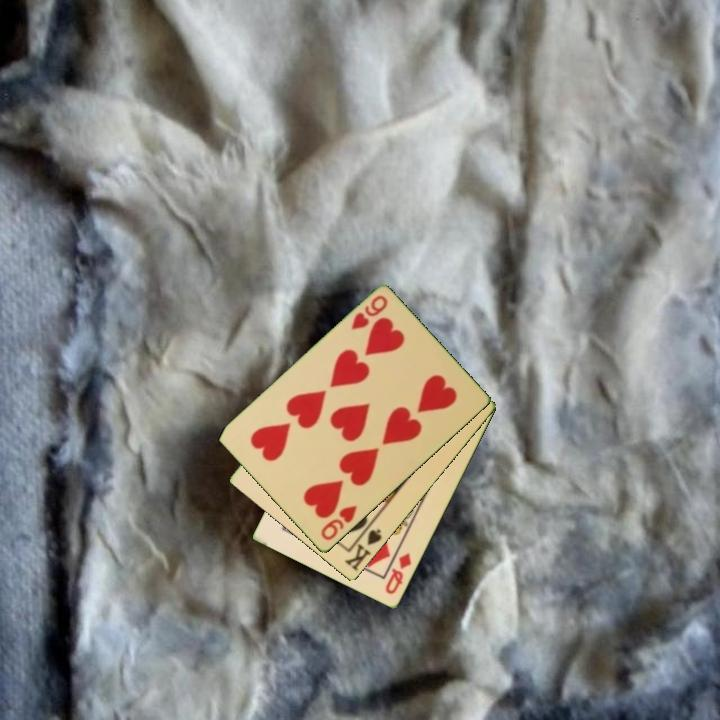9h: (317, 502, 360, 544), (348, 292, 391, 333)
Ks: (341, 519, 385, 574)
Qd: (382, 549, 414, 598)
